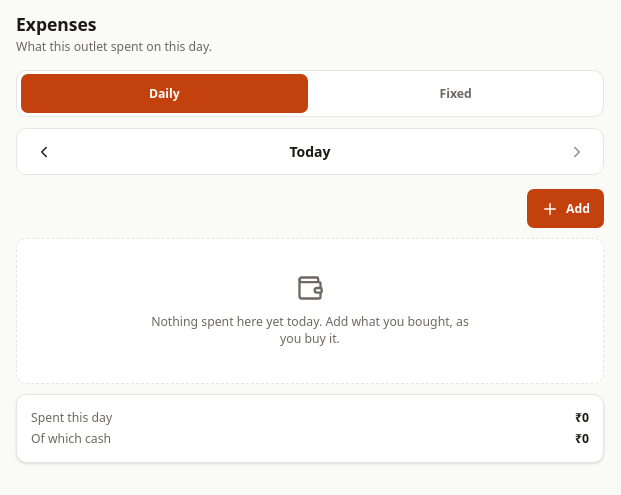
Test case: the outlet expenses surface › lets a manager step back and correct another person’s row, and totals only live rows
Click the button with test id "expenses-step-back".
click(44, 152)  # box [20, 132, 66, 171]
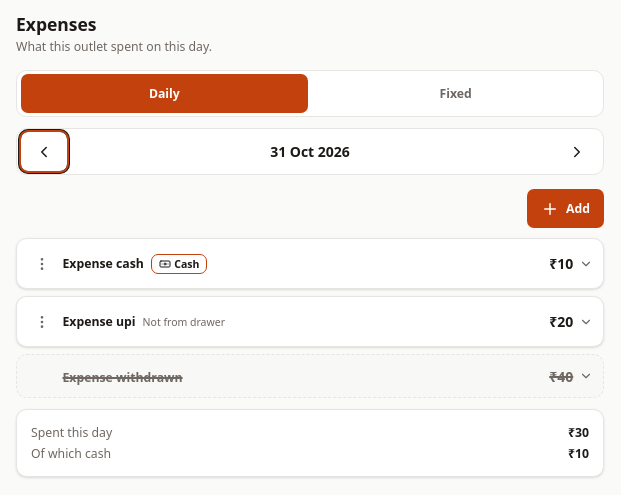
Now the text "Expense cash" is shown, box [62, 255, 144, 272]
Click the button named "Actions for Expense cash".
click(42, 264)  # box [34, 256, 50, 272]
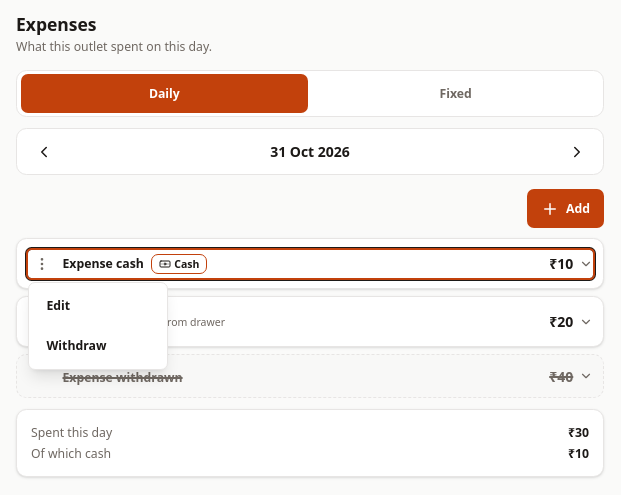
Now the text "₹30" is shown, box [568, 424, 589, 441]
Now the text with test id "expense-cash-total" reads "₹10", box [568, 445, 589, 462]
Now the button with test id "edit-expense-cash" is shown, box [32, 286, 164, 325]
